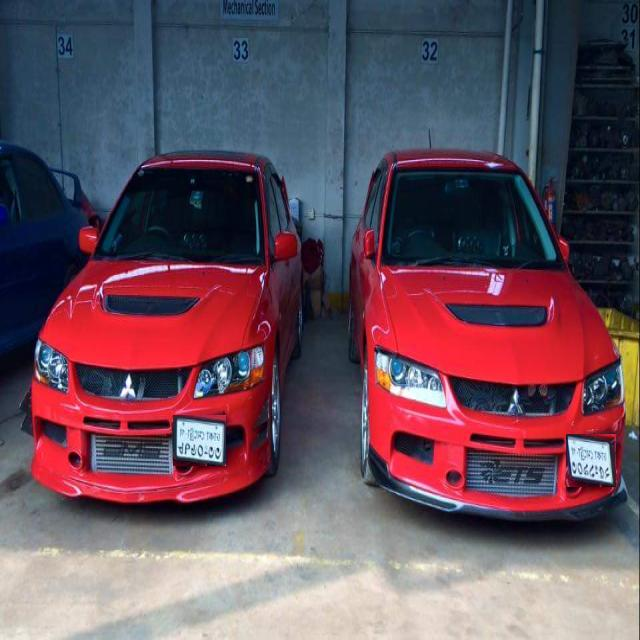numberplate: (173, 415, 226, 466), (566, 434, 616, 487)
